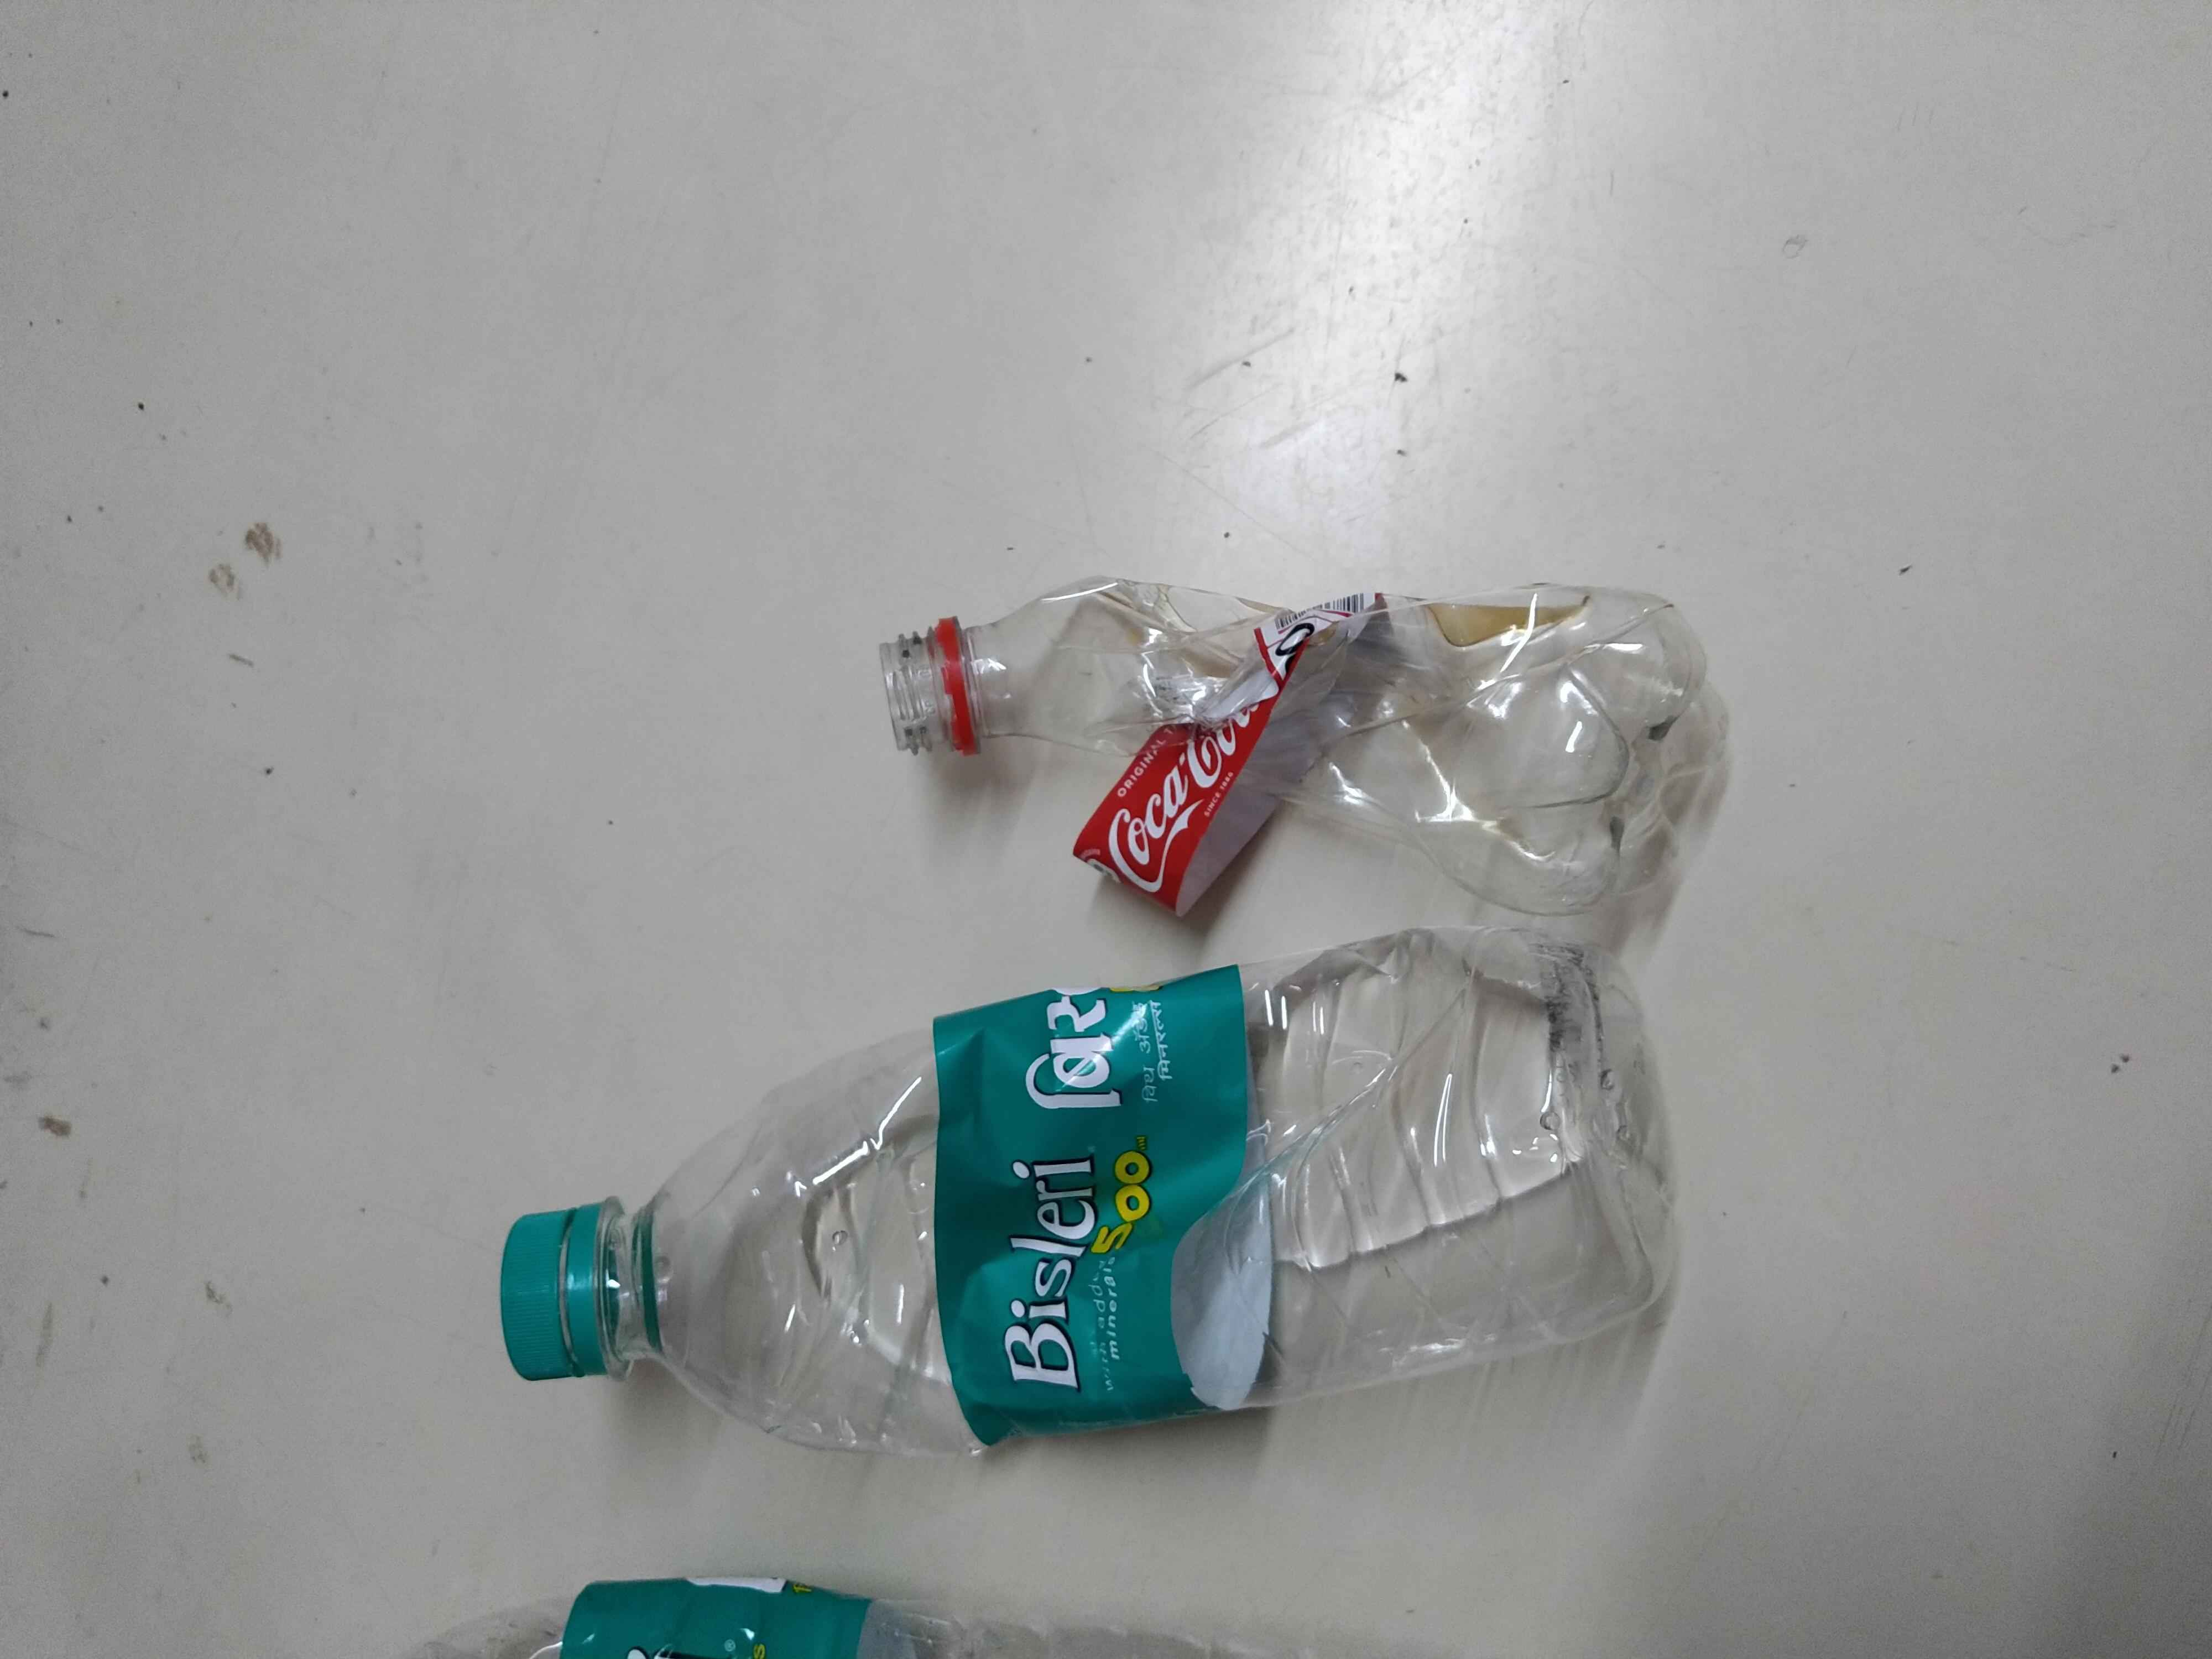Bisleri: (989, 979, 1211, 1408), (583, 1565, 859, 1656)
Coca-Cola: (1085, 690, 1266, 885)
